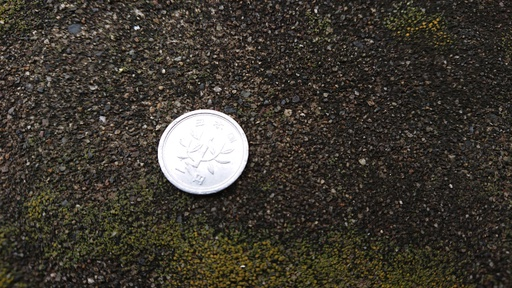1yen: (157, 109, 248, 195)
